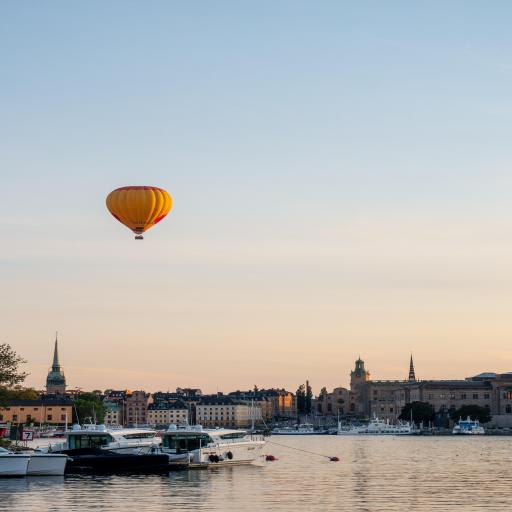hot air ballon: (103, 183, 174, 243)
